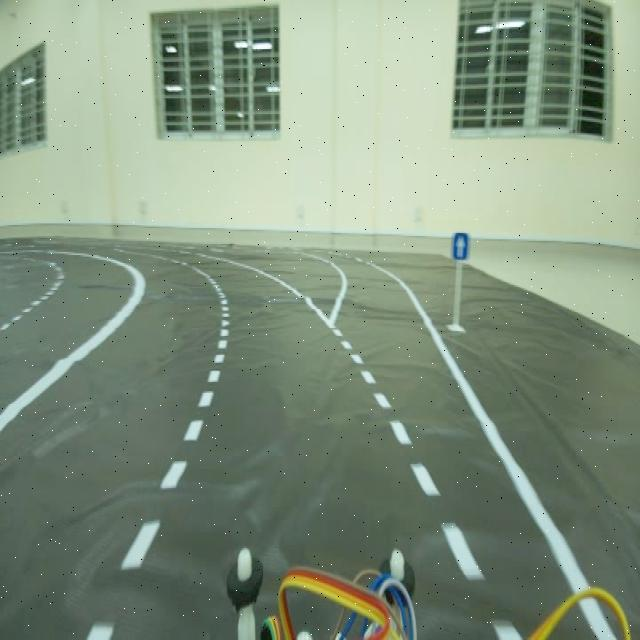onewayroad: (447, 225, 472, 269)
